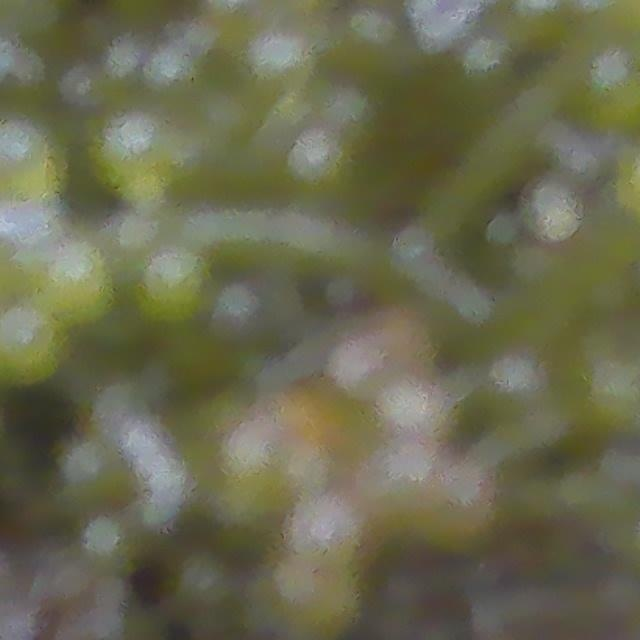SeaGrape: (37, 238, 120, 327), (133, 241, 215, 328), (525, 181, 580, 241)
